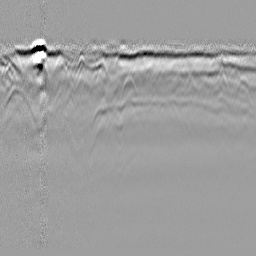cavity: (120, 74, 137, 96)
